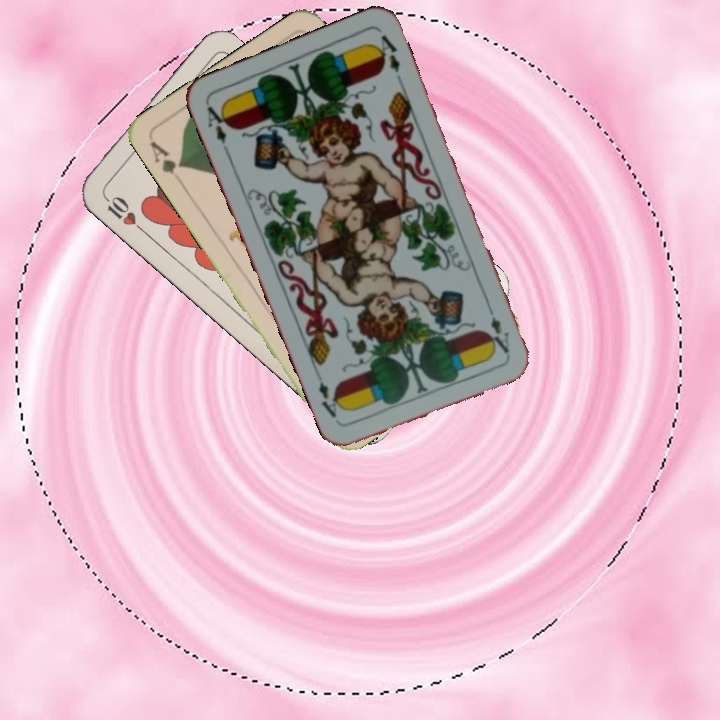EA: (482, 299, 512, 356), (203, 102, 233, 157)
GA: (146, 136, 187, 177)
H10: (98, 190, 147, 234)
